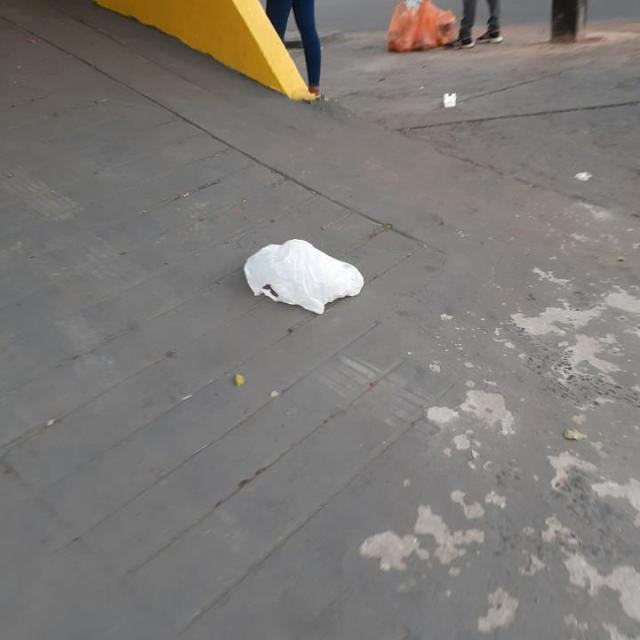litter: (242, 235, 367, 319), (439, 90, 460, 112), (573, 170, 594, 186)
